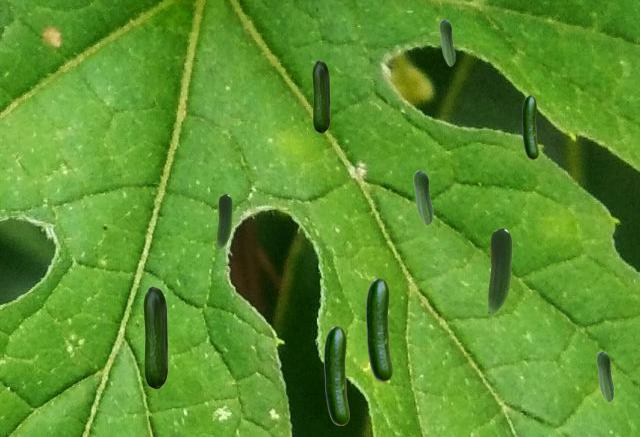cucumber: (366, 278, 391, 380), (143, 286, 167, 388), (324, 326, 348, 424), (488, 228, 511, 313), (312, 60, 329, 132), (413, 170, 432, 224), (522, 95, 537, 158), (596, 351, 613, 401), (217, 194, 231, 248), (439, 19, 454, 65)
